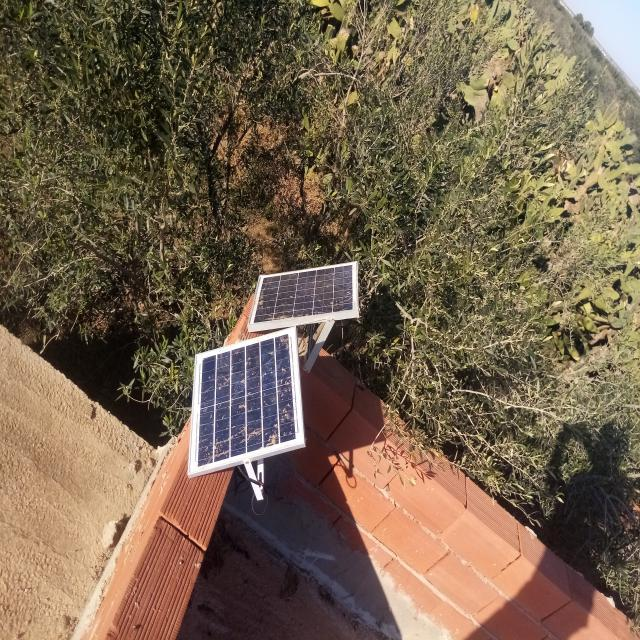faulty: (188, 325, 304, 474), (249, 261, 358, 327)
